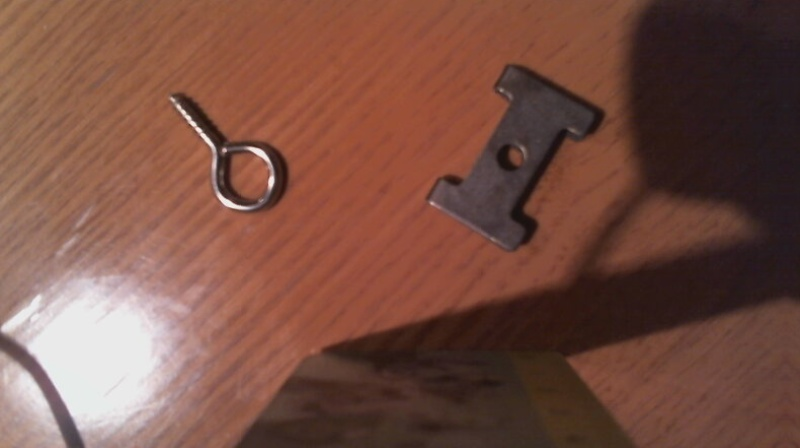O001: (166, 85, 285, 216)
O002: (423, 60, 601, 252)
